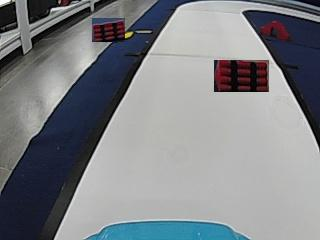bridge: (261, 20, 289, 40)
